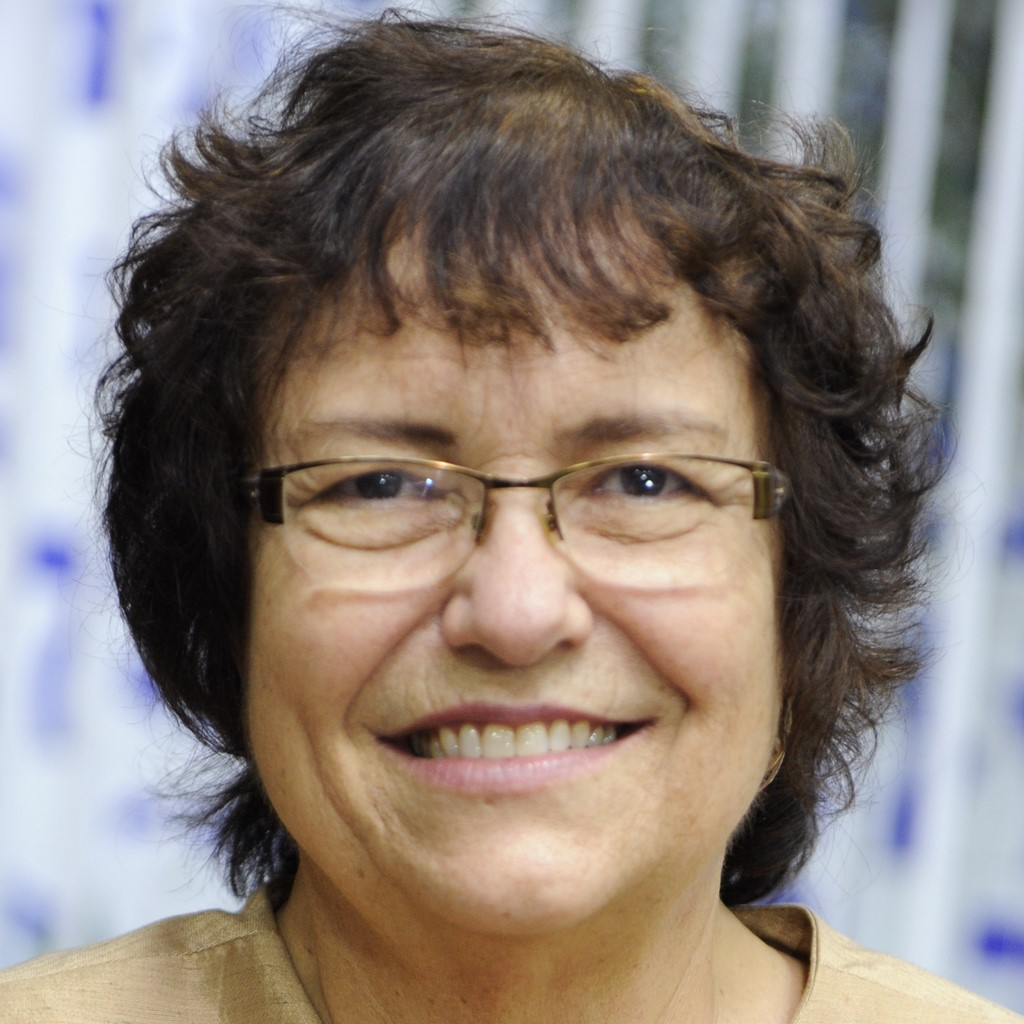sin_mascara: (197, 207, 763, 961)
